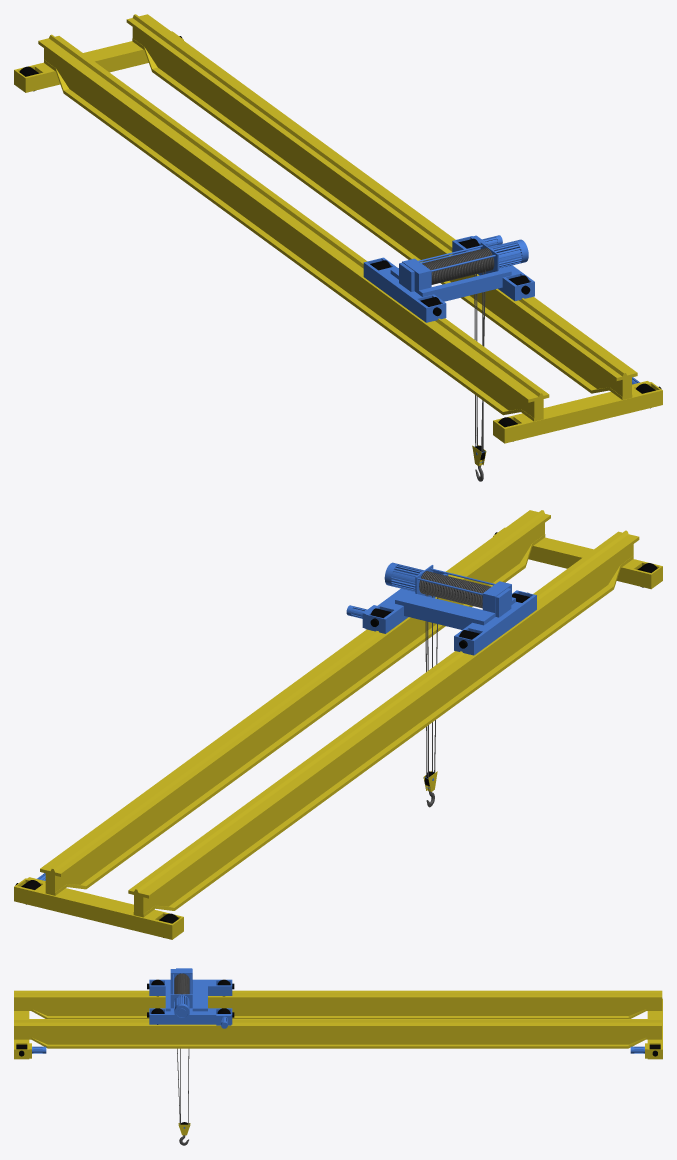
Rendered from overheadCrane.fbx.
3 views of the same model, one above another, from view 1: azimuth 30°, elevation 25°; view 2: azimuth 150°, elevation 25°; view 3: azimuth 270°, elevation 25° (orthographic). The views are drawn at different scales.
Parts seen in each view (by area): view 1: BackBridge, FrontBridge, pCube3 (×4), pCube5, pCube6, TrollyEngine; view 2: BackBridge, FrontBridge, pCube3 (×4), pCube4, pCube6, TrollyEngine; view 3: FrontBridge, BackBridge, pCube3 (×4), pCube4, TrollyEngine.
Boxes of the visible parts, x1,y1,x2,y2 form: BackBridge: (38,34,549,421); FrontBridge: (126,14,637,399); pCube3 (×4): (14,31,662,443); pCube5: (419,268,511,301); pCube6: (399,258,431,293); TrollyEngine: (489,239,528,268); BackBridge: (128,530,639,917); FrontBridge: (40,510,550,895); pCube3 (×4): (14,527,662,939); pCube4: (395,591,495,629); pCube6: (482,581,511,617); TrollyEngine: (384,562,423,591); FrontBridge: (14,1019,661,1048); BackBridge: (14,990,662,1018); pCube3 (×4): (14,979,662,1059); pCube4: (192,980,207,1011); TrollyEngine: (174,995,189,1019).
Bounding box in the file's own units: 8.04 × 11.07 × 42.37.
